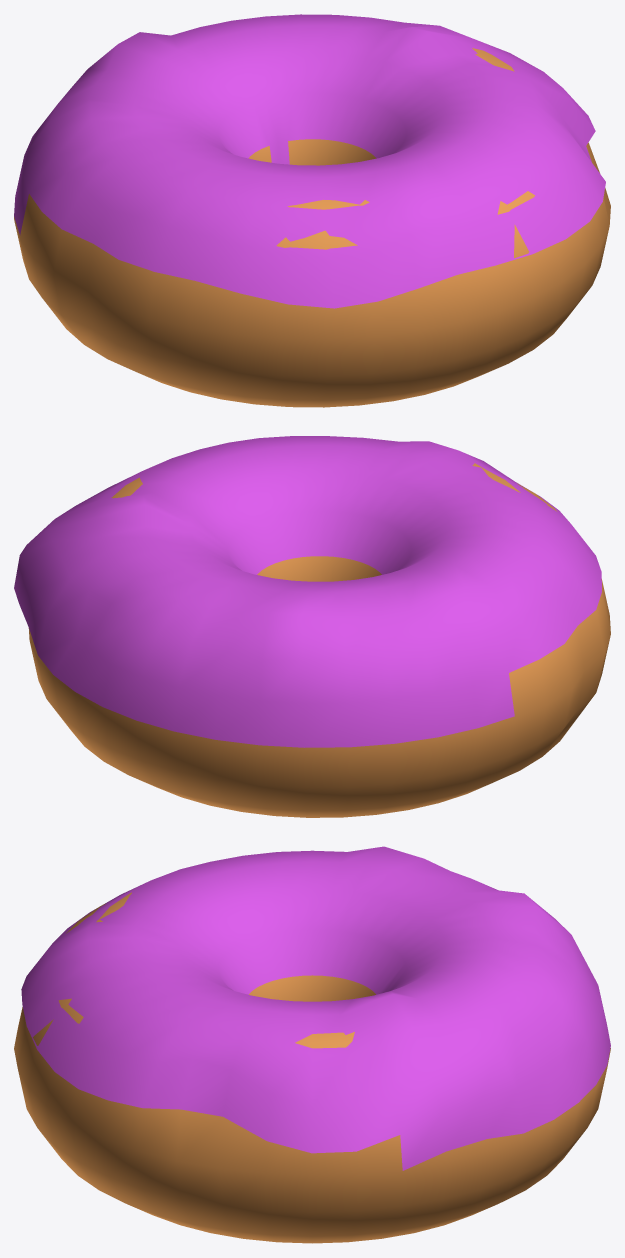
3 views of the same model, one above another, from view 1: azimuth 30°, elevation 25°; view 2: azimuth 150°, elevation 25°; view 3: azimuth 270°, elevation 25° (orthographic). The views are drawn at different scales.
Parts seen in each view (by area): view 1: Icing, Torus.003; view 2: Icing, Torus.003; view 3: Icing, Torus.003.
Boxes of the visible parts, x1=… form: Icing: x1=14, y1=14, x2=605, y2=308; Torus.003: x1=14, y1=48, x2=610, y2=407; Icing: x1=14, y1=436, x2=601, y2=747; Torus.003: x1=28, y1=463, x2=610, y2=817; Icing: x1=21, y1=846, x2=610, y2=1170; Torus.003: x1=14, y1=892, x2=610, y2=1243.
Size of what is drawn, in the model's own units: 0.1038 by 0.0425 by 0.1.
